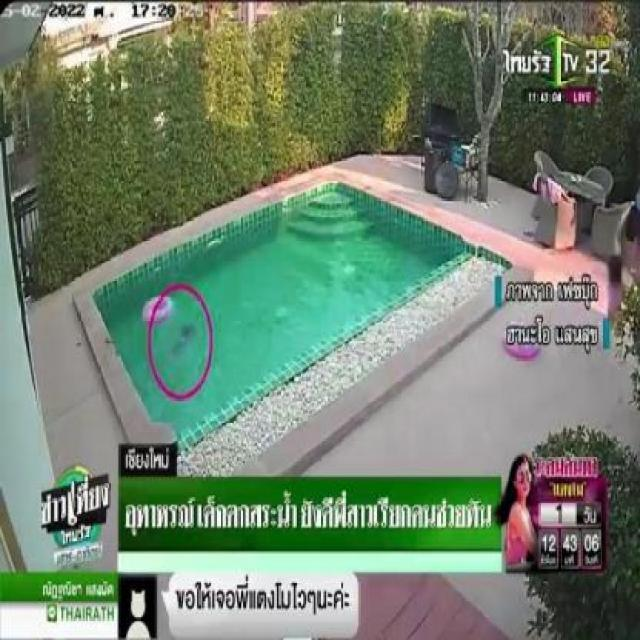drowning: (163, 321, 202, 379)
